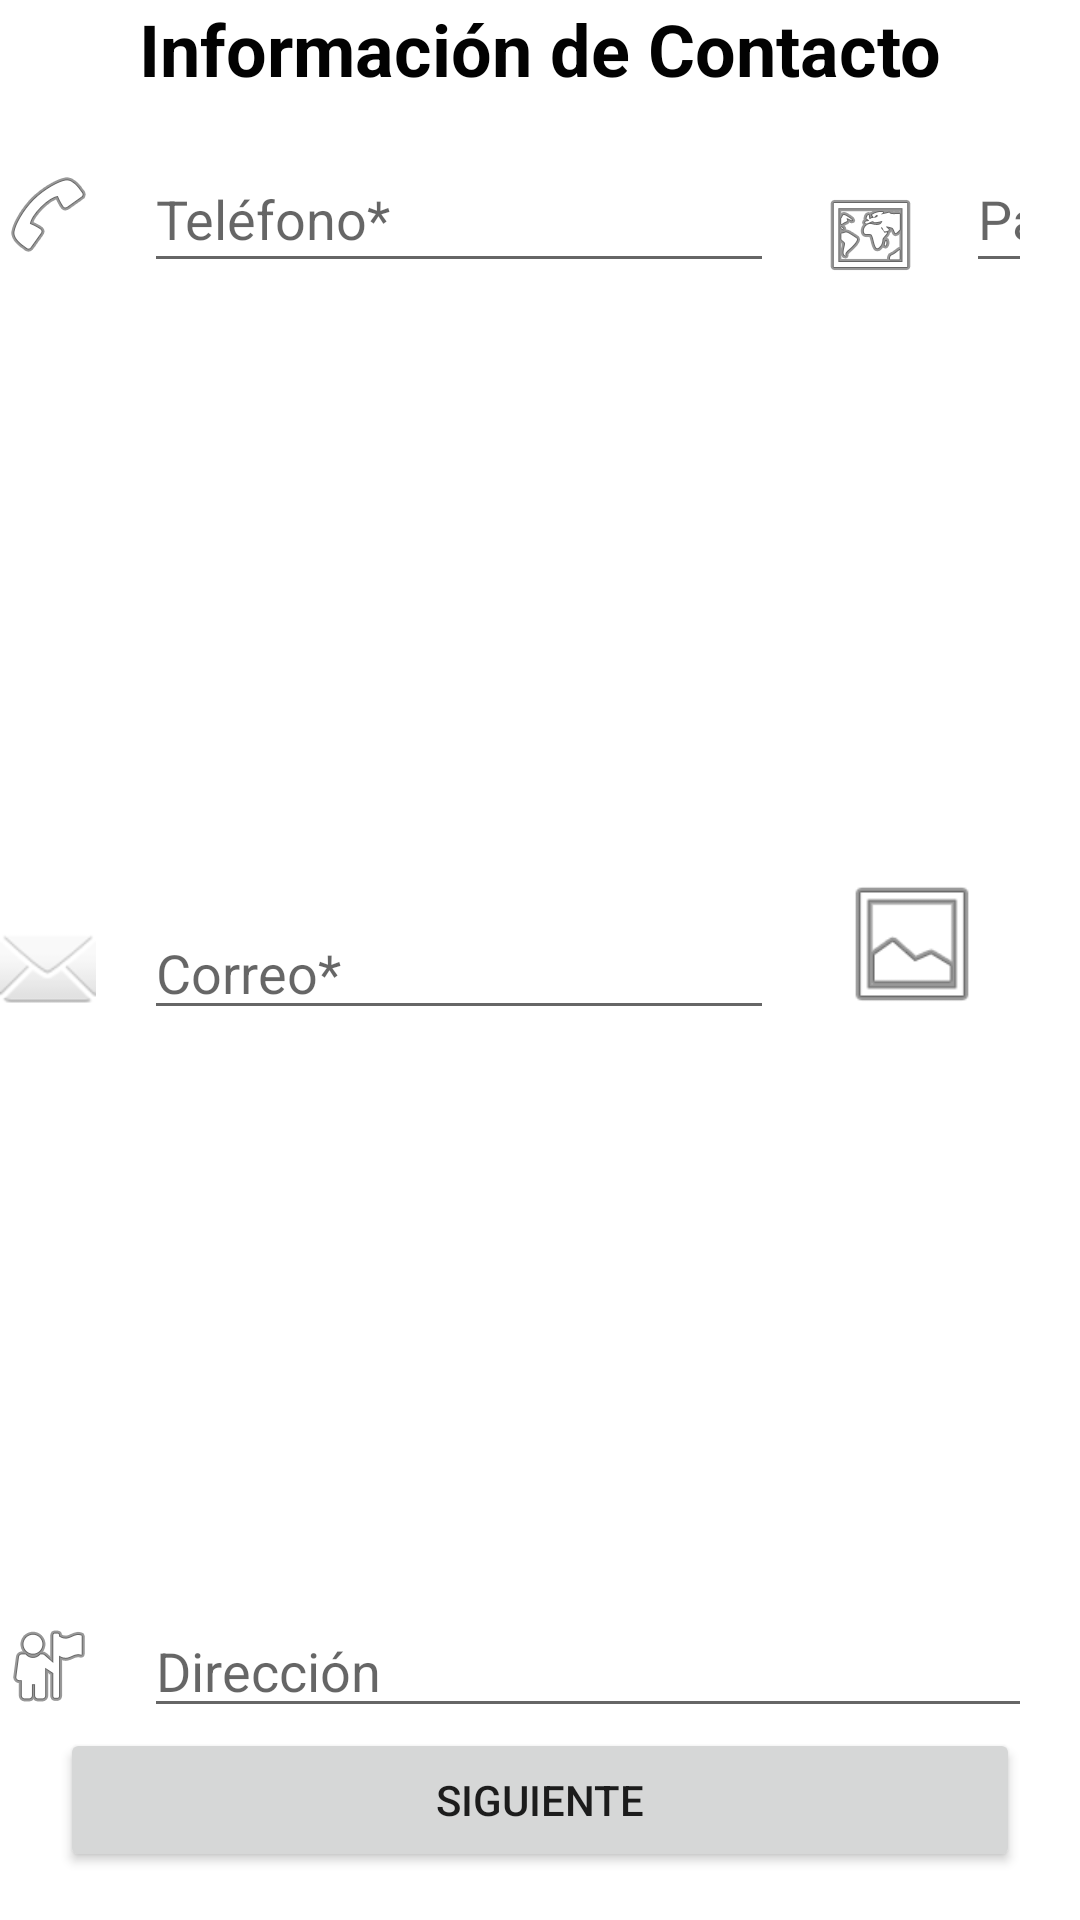

Icons on this 1080*1920 Android screen, each with its box as {"x1": x1, "y1": y1, "x2": x2, "y2": y2}:
E-mail: {"x1": 0, "y1": 937, "x2": 96, "y2": 1003}
myplaces: {"x1": 13, "y1": 1630, "x2": 85, "y2": 1702}
Planeta: {"x1": 830, "y1": 200, "x2": 911, "y2": 270}
